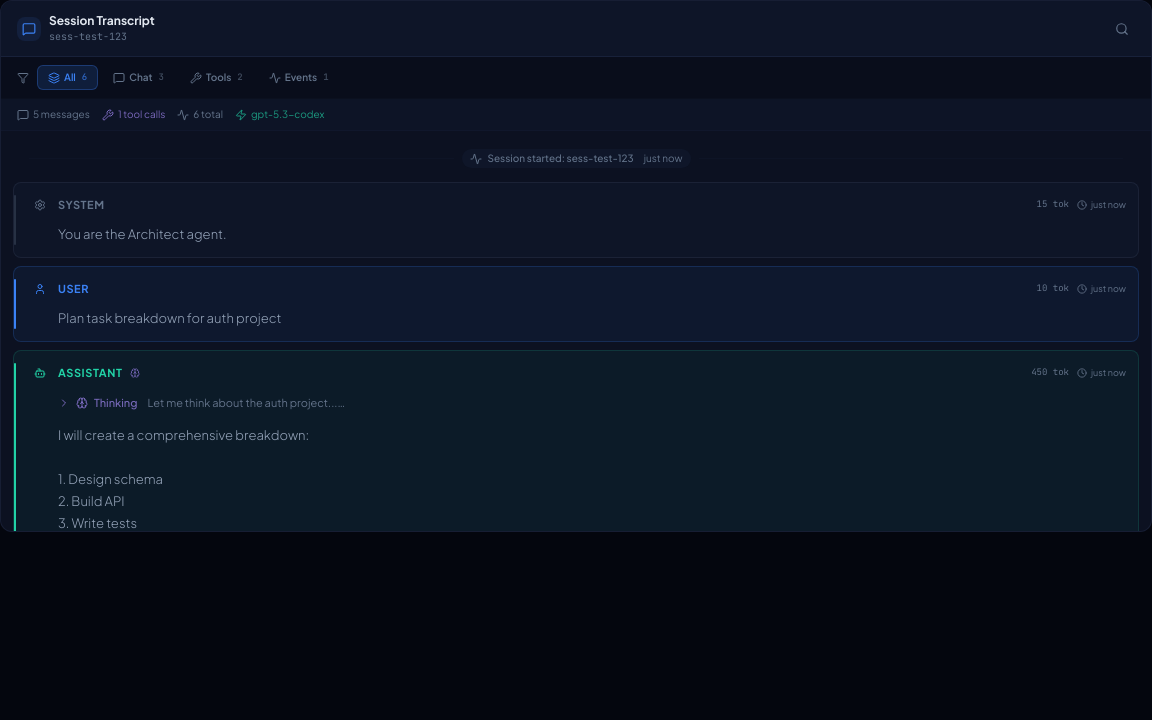
Scenario: ConversationReplay › filters messages by search term
The width and height of the screenshot is (1152, 720).
Click the 1st button: (1122, 28) [1109, 16, 1135, 42]
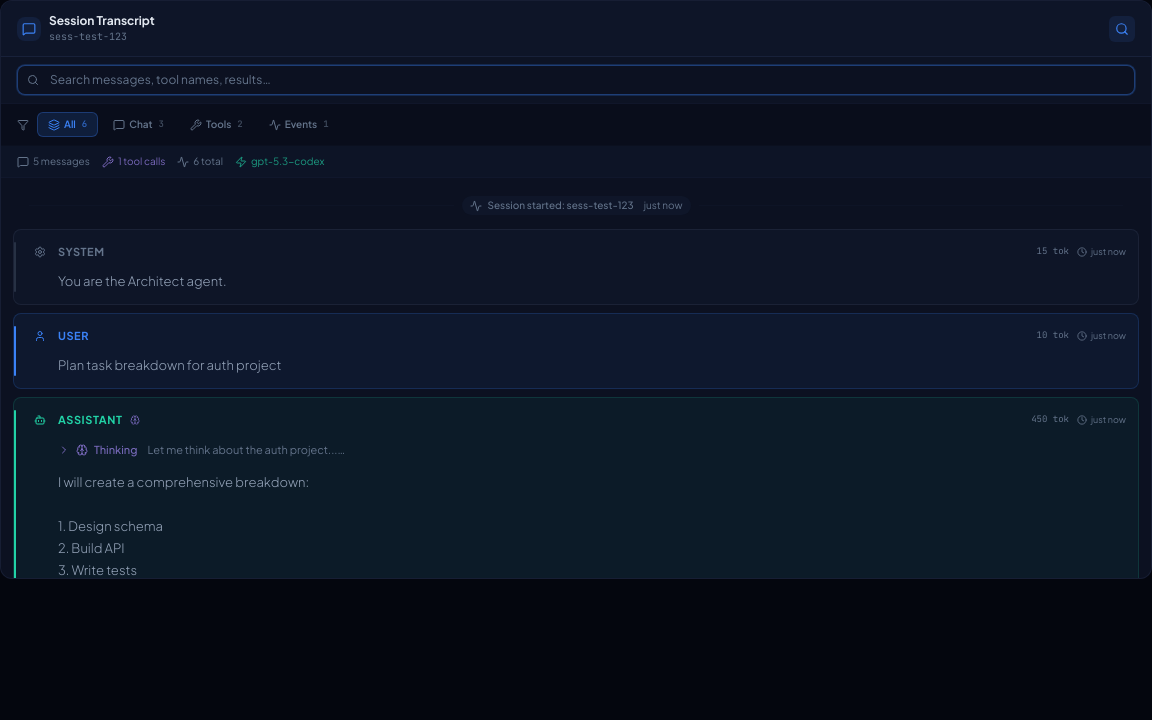
In the field with placeholder "Search messages, tool names, results…": (576, 80) [17, 65, 1135, 95], type "Architect"
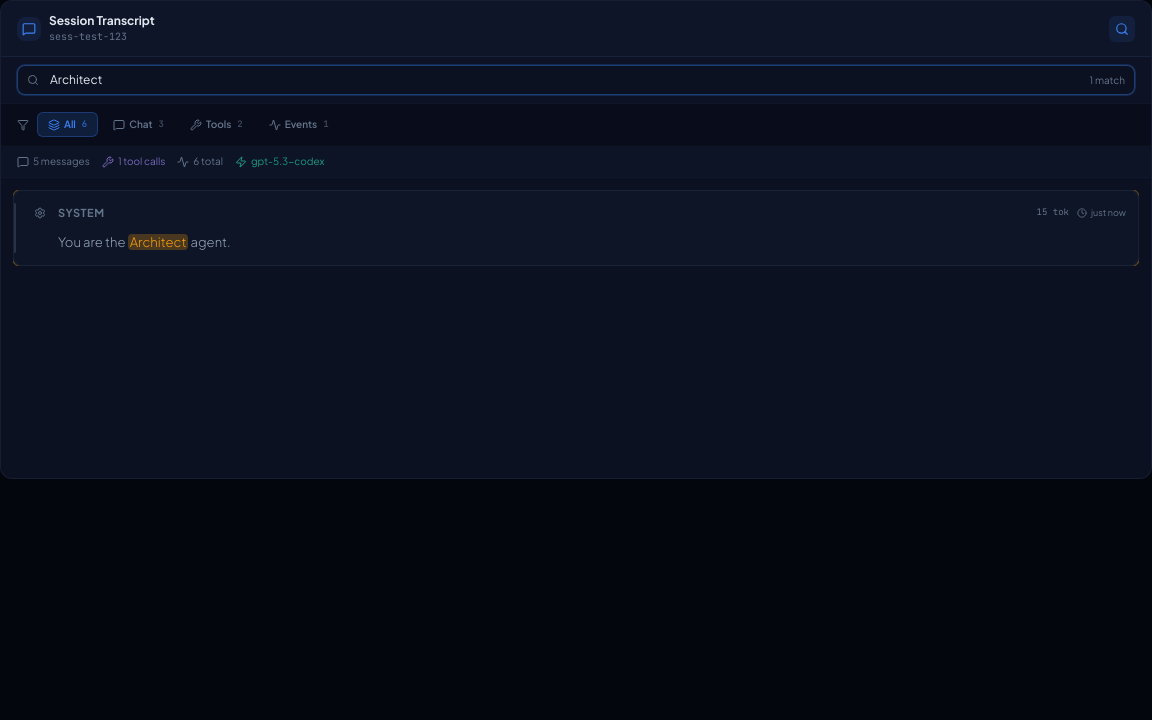
Expected: the element with test id "transcript-message" is shown, [13, 190, 1139, 266]
Result: the text "Plan task breakdown for auth project" is gone
